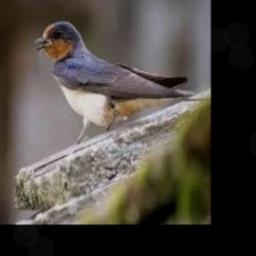Swallow: (33, 21, 194, 144)
